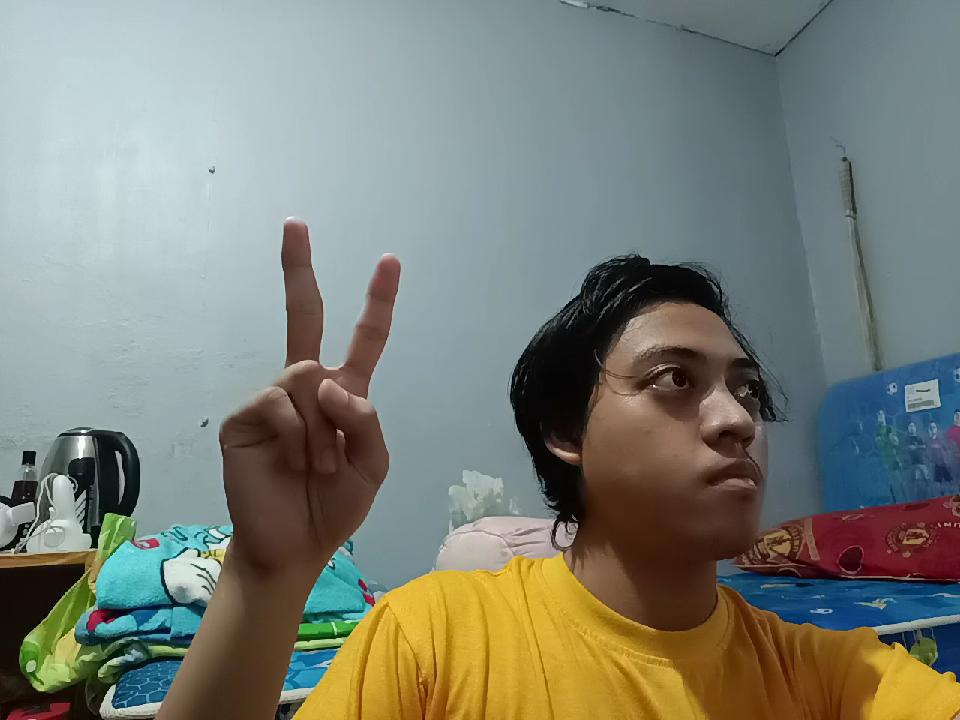scissors: (224, 210, 404, 572)
